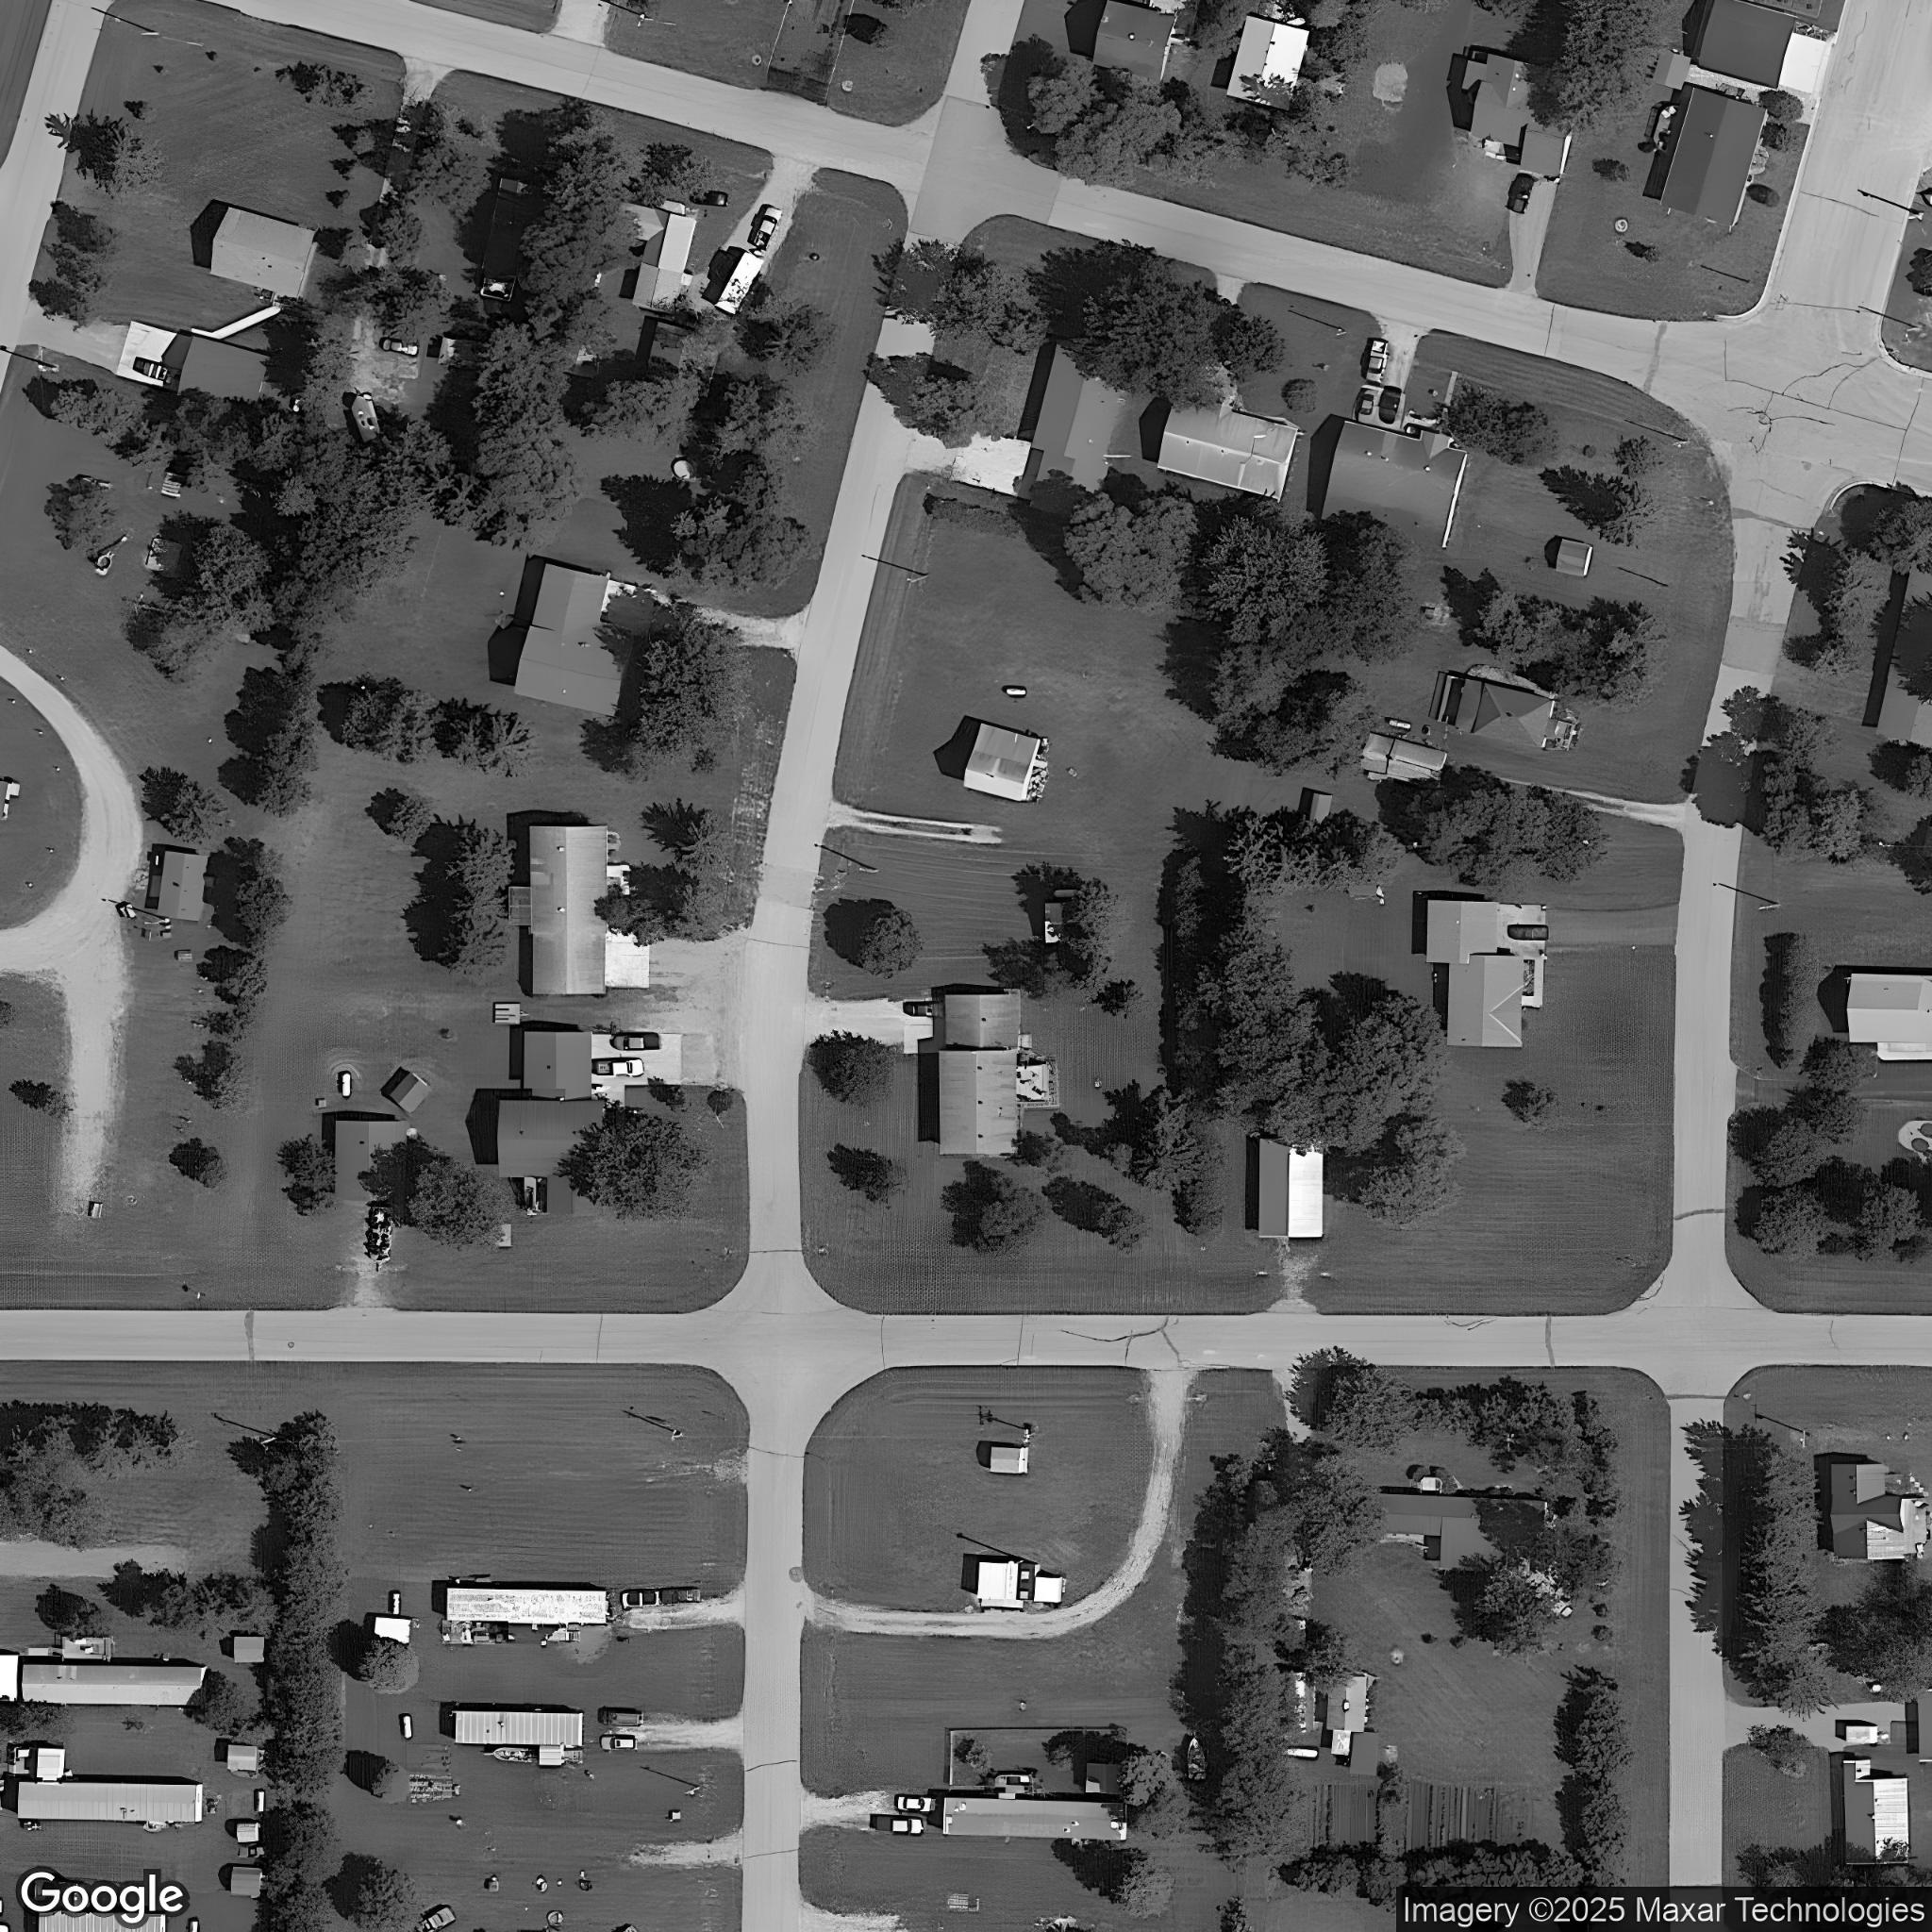Garage: (1697, 0, 1799, 90), (334, 1122, 409, 1201), (1361, 732, 1449, 791), (159, 853, 209, 920), (1327, 1677, 1366, 1730), (1652, 50, 1690, 92), (1555, 540, 1594, 575), (230, 1865, 262, 1897), (226, 1744, 260, 1771), (234, 1637, 265, 1663)
House: (499, 1031, 605, 1217), (1030, 341, 1134, 525), (1322, 421, 1470, 548), (513, 563, 633, 717), (508, 826, 607, 994), (1461, 50, 1589, 179), (1658, 87, 1767, 225), (1159, 395, 1297, 501), (1426, 901, 1523, 1047), (1371, 1493, 1546, 1575), (938, 987, 1019, 1157), (211, 205, 318, 299), (612, 200, 697, 317), (1226, 14, 1311, 110), (179, 334, 271, 416), (1829, 1463, 1905, 1559), (1454, 678, 1555, 748), (1844, 1759, 1911, 1865), (1093, 0, 1177, 80), (1258, 1138, 1323, 1238), (964, 724, 1042, 801), (1847, 973, 1930, 1042)
Propane: (1276, 1741, 1322, 1762), (384, 1585, 407, 1617), (338, 1069, 356, 1100), (400, 1711, 418, 1743), (1385, 715, 1414, 732), (253, 1785, 269, 1815), (1005, 685, 1028, 699)
Trailer: (21, 1663, 209, 1707), (943, 1799, 1129, 1840), (19, 1783, 203, 1822), (446, 1587, 607, 1622), (453, 1711, 584, 1746)
